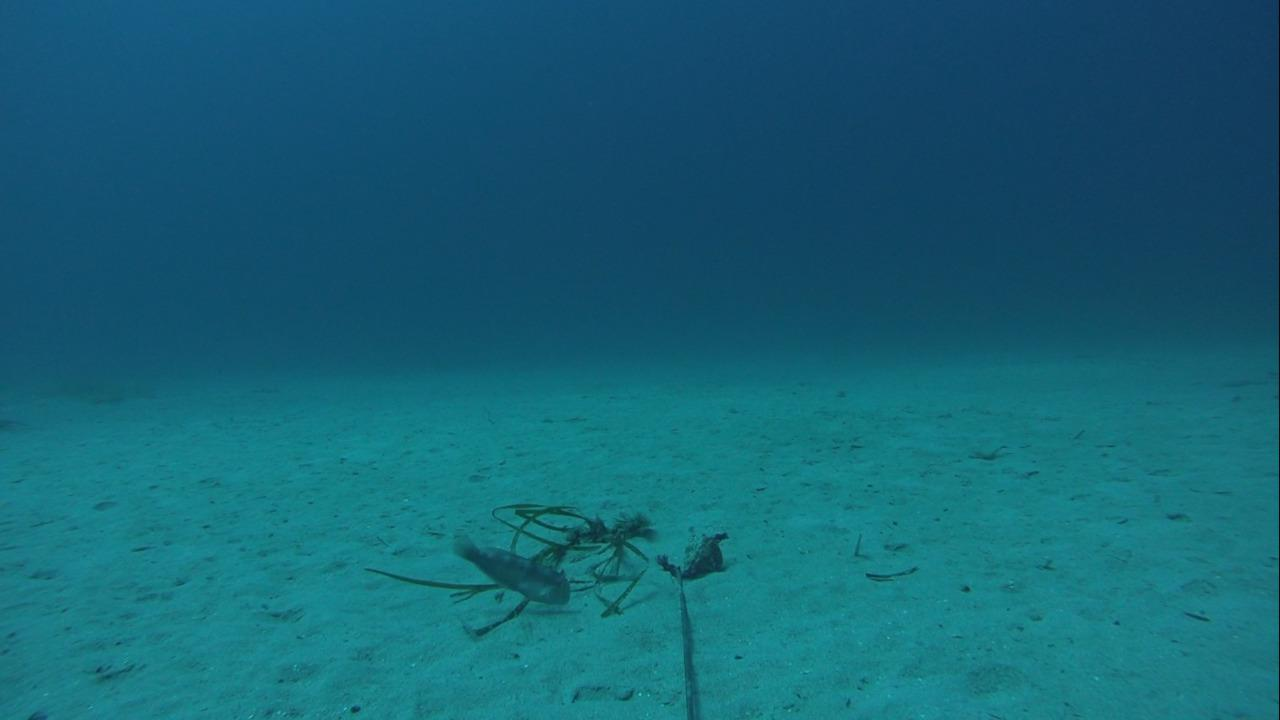raor: (445, 525, 572, 608)
